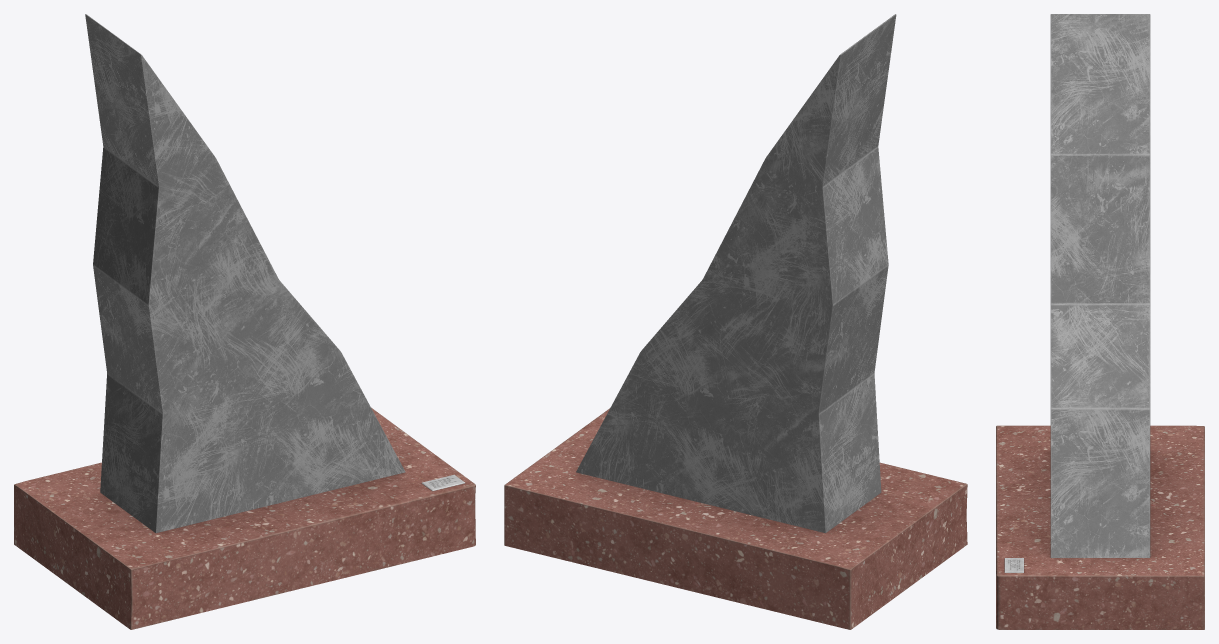
Rendered from KranaeAekyad.glb.
The picture shows the model from 3 angles, left to right: view 1: azimuth 30°, elevation 25°; view 2: azimuth 150°, elevation 25°; view 3: azimuth 270°, elevation 25°; orthographic projection. The views are drawn at different scales.
Visible parts, largest first — view 1: SM_KranaeAekyad; view 2: SM_KranaeAekyad; view 3: SM_KranaeAekyad.
Part boxes in pixels (x1,y1,x2,y2): SM_KranaeAekyad: [14, 14, 475, 629]; SM_KranaeAekyad: [504, 14, 967, 629]; SM_KranaeAekyad: [996, 14, 1204, 629].
Size of the model in its own units: 1.73 by 2.59 by 1.01.
1 material, 1 textured.
